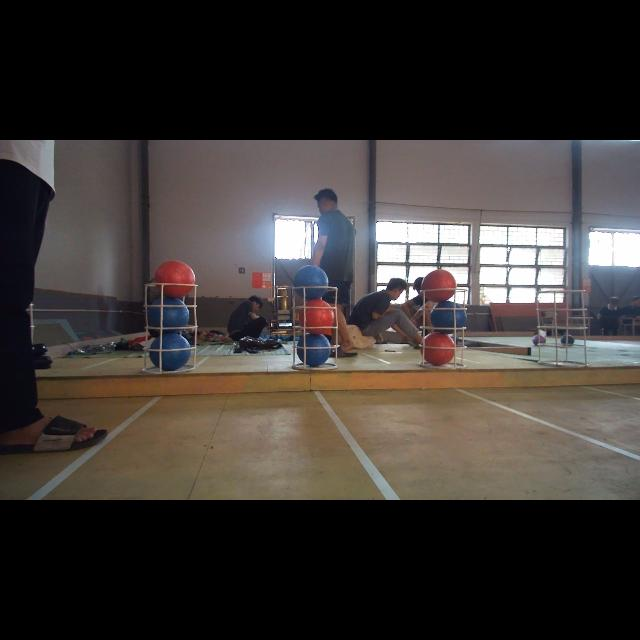B: (150, 332, 192, 370), (149, 298, 189, 332), (293, 266, 329, 300), (420, 332, 456, 366), (429, 300, 467, 332), (298, 333, 332, 367)
R: (155, 261, 195, 297), (300, 300, 334, 334), (422, 270, 456, 300)
